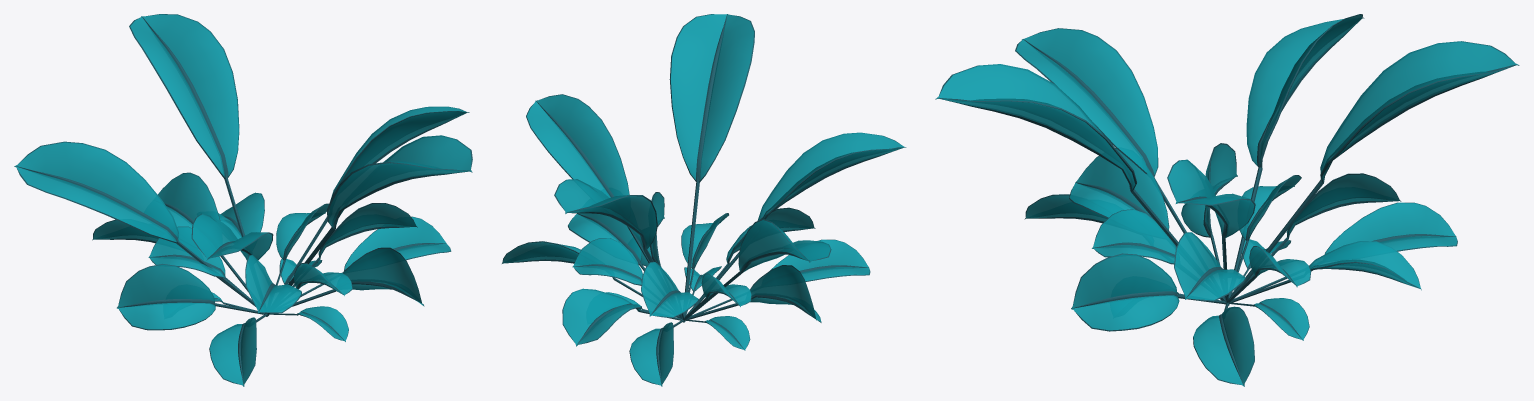
Rendered from ferne.fbx.
3 views of the same model, side by side, from view 1: azimuth 30°, elevation 25°; view 2: azimuth 150°, elevation 25°; view 3: azimuth 270°, elevation 25° (orthographic). The views are drawn at different scales.
Visible parts, largest first — view 1: ferne; view 2: ferne; view 3: ferne.
Part boxes in pixels (x1,y1,x2,y2): ferne: [14, 14, 472, 386]; ferne: [502, 14, 906, 386]; ferne: [935, 14, 1519, 386].
Bounding box in the file's own units: 108 × 59.98 × 123.
